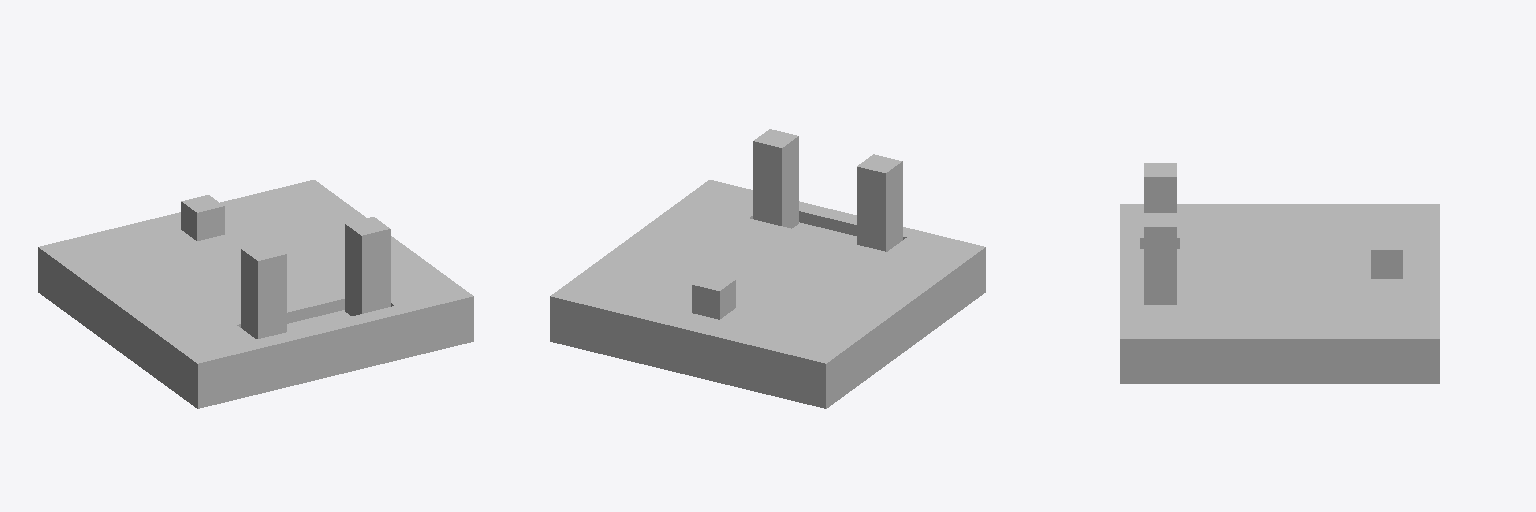
The model's file is unpowered_comparator 2.obj.
3 views of the same model, side by side, from view 1: azimuth 30°, elevation 25°; view 2: azimuth 150°, elevation 25°; view 3: azimuth 270°, elevation 25° (orthographic).
Parts seen in each view (by area): view 1: unpowered_comparator_2; view 2: unpowered_comparator_2; view 3: unpowered_comparator_2.
Boxes of the visible parts, <box> form: unpowered_comparator_2: <box>38,180,473,408</box>; unpowered_comparator_2: <box>550,129,985,408</box>; unpowered_comparator_2: <box>1120,163,1439,383</box>.
Size of the model in its own units: 1 by 0.4216 by 1.